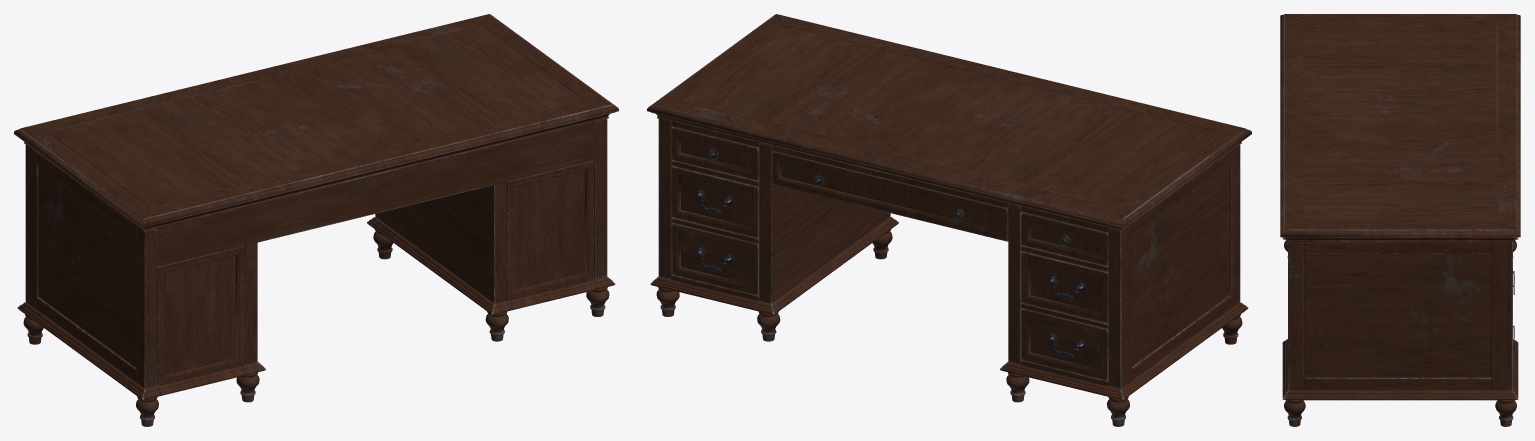
3 views of the same model, side by side, from view 1: azimuth 30°, elevation 25°; view 2: azimuth 150°, elevation 25°; view 3: azimuth 270°, elevation 25° (orthographic). The views are drawn at different scales.
Visible parts, largest first — view 1: SZ; view 2: SZ, SB; view 3: SZ.
Part boxes in pixels (x1,y1,x2,y2): SZ: (14,14,618,426); SZ: (647,14,1251,426); SB: (696,148,1086,357); SZ: (1280,14,1520,426).
Size of the model in its own units: 1813 by 770 by 841.
Materials: 2 (2 with a texture image).
